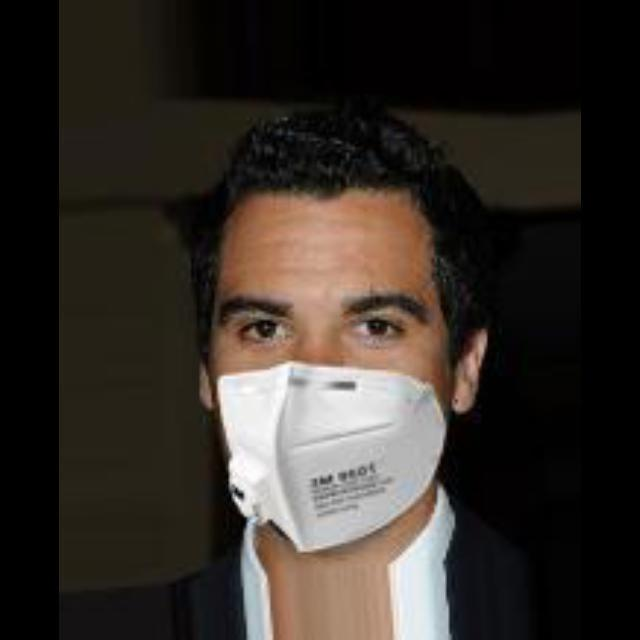suspicion: (143, 140, 512, 548)
